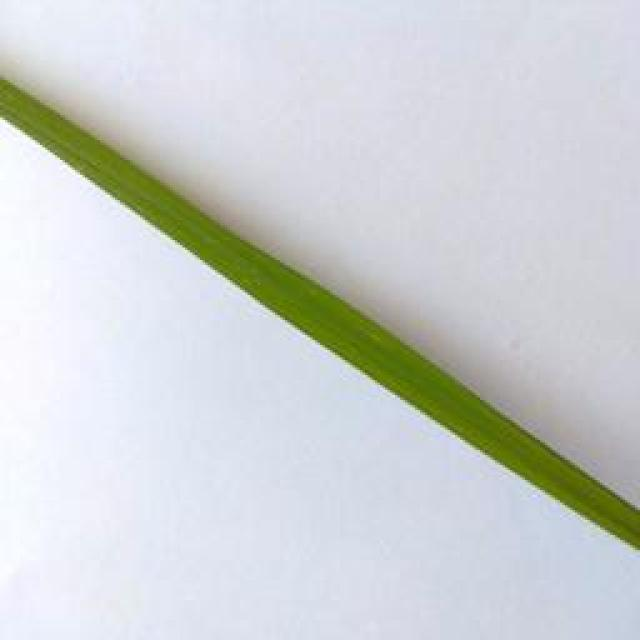Healthy-Plant: (0, 82, 640, 544)
